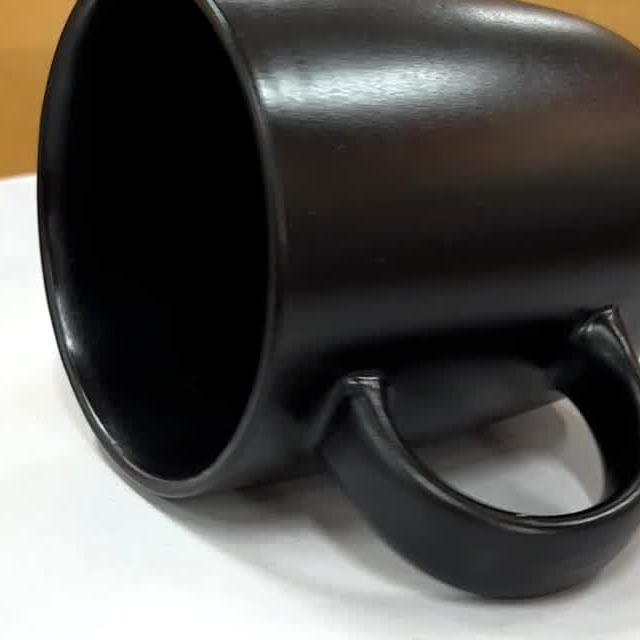cup: (37, 0, 640, 601)
